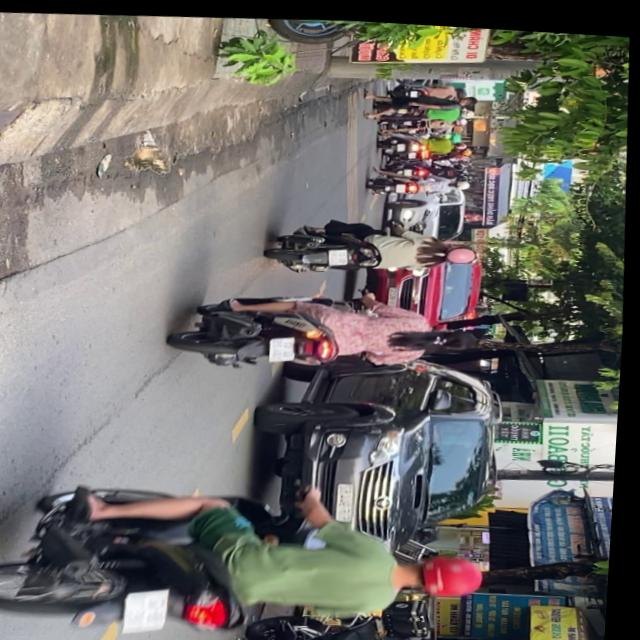helmet: (405, 544, 493, 596), (447, 239, 481, 260)
licenseplate: (0, 458, 501, 640), (171, 274, 497, 380), (267, 206, 484, 279)
motorcyclist: (437, 321, 480, 346)
nohelmet: (133, 586, 178, 631), (272, 331, 301, 358), (331, 243, 352, 261)
